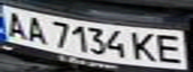1: (66, 23, 87, 53)
3: (84, 25, 109, 56)
4: (106, 27, 130, 60)
7: (45, 19, 72, 49)
A: (0, 8, 30, 39), (21, 14, 48, 44)
E: (151, 32, 190, 65)
K: (127, 29, 160, 63)
